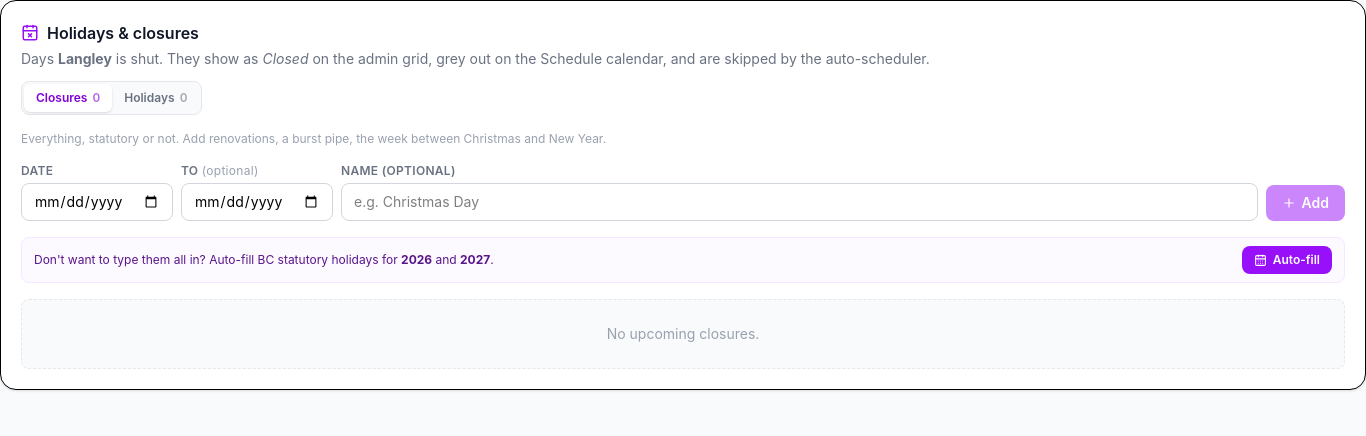
Test: closing a stretch in one go › refuses an end before the start, and writes nothing
Type "2099-12-28" into the 1st date field at (97, 202), box [21,183,173,221]
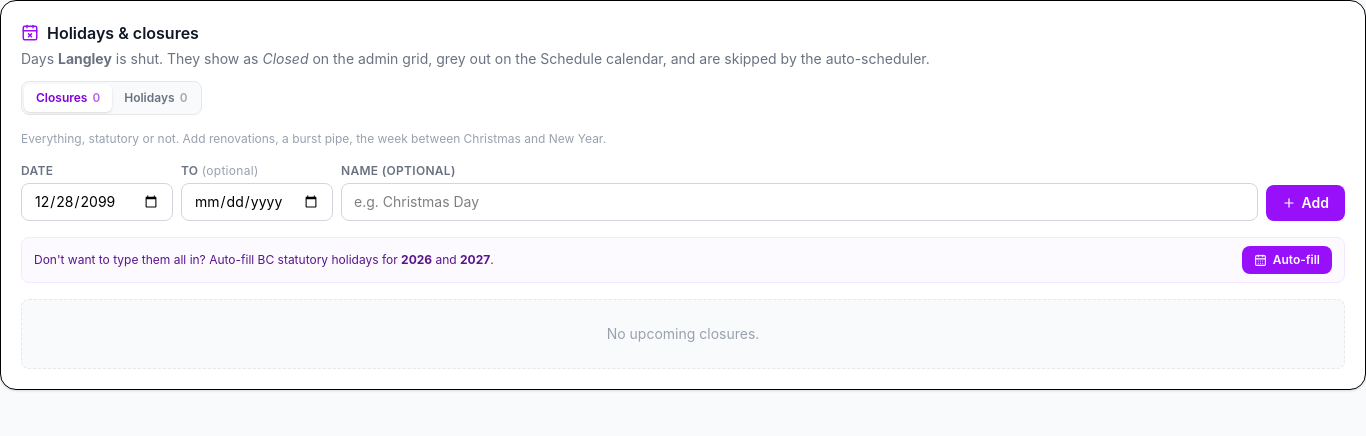
Type "2099-12-24" into the date field named "Last day of the closure" at (257, 202), box [181,183,333,221]
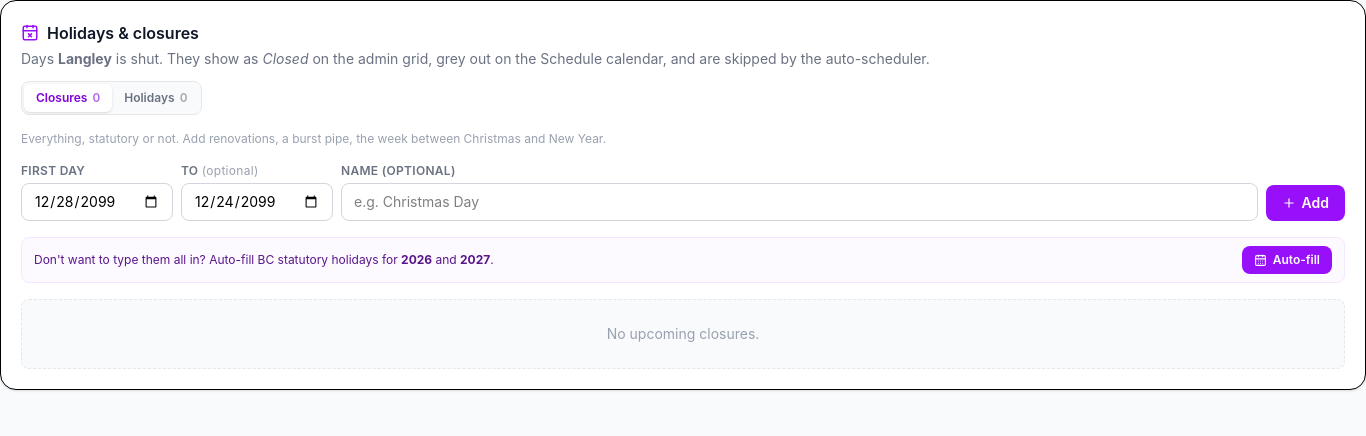
Click the button "Add" at (1305, 203), box [1266,185,1345,221]
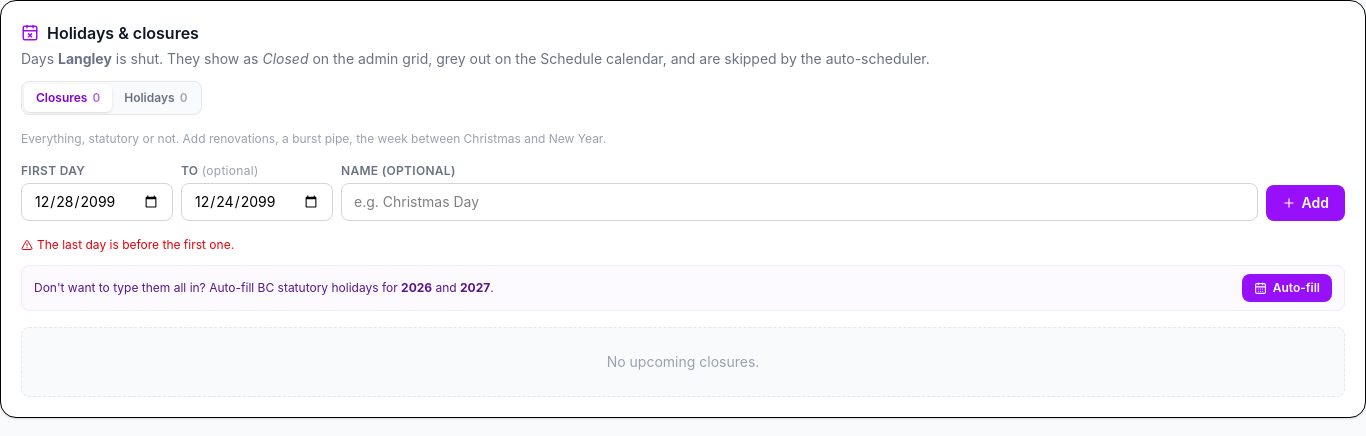
Expected: the text "The last day is before the first one." is shown, [21,237,234,252]
